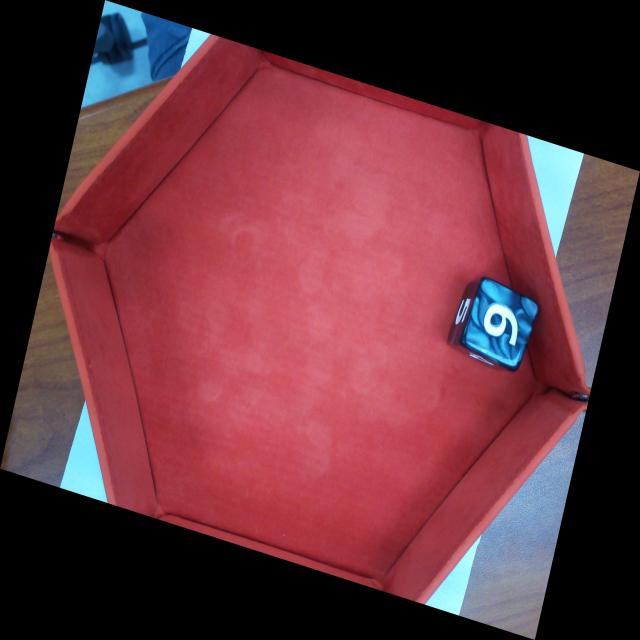dice: (460, 276, 542, 372)
